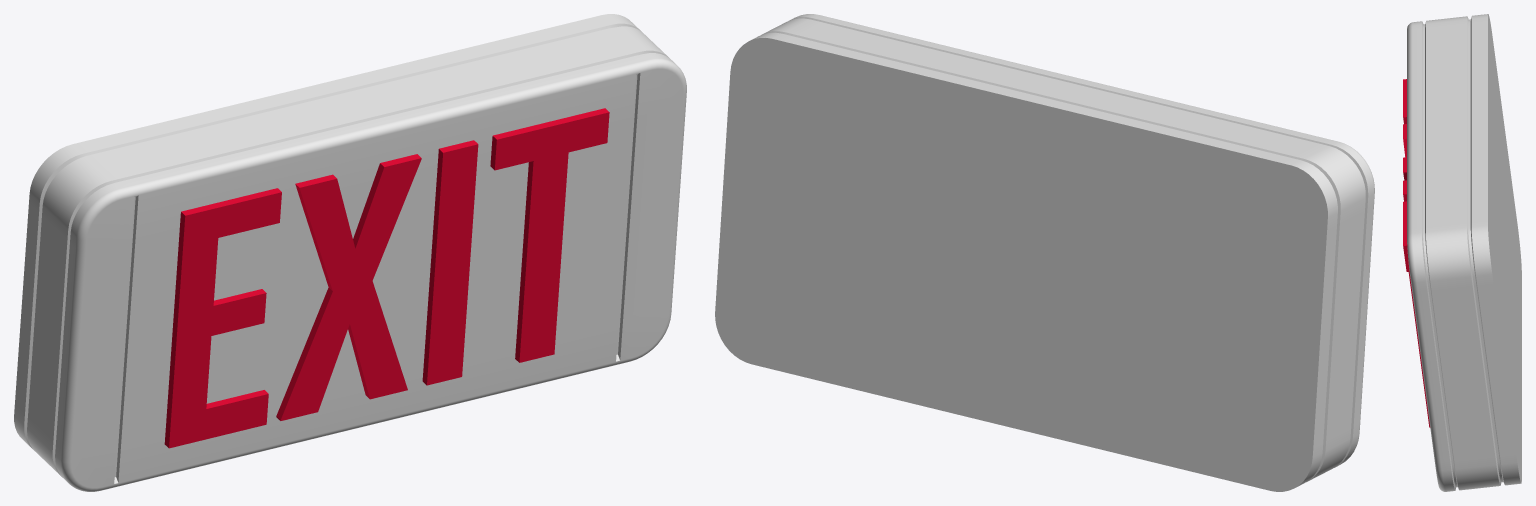
File: my_exit2.glb
The picture shows the model from 3 angles, left to right: view 1: azimuth 30°, elevation 25°; view 2: azimuth 150°, elevation 25°; view 3: azimuth 270°, elevation 25°; orthographic projection. The views are drawn at different scales.
Parts seen in each view (by area): view 1: Exit Sign Box, Text; view 2: Exit Sign Box; view 3: Exit Sign Box, Text.
Part boxes in pixels (bbox=[...]): Exit Sign Box: bbox=[14, 14, 686, 491]; Text: bbox=[164, 108, 609, 448]; Exit Sign Box: bbox=[715, 14, 1374, 491]; Exit Sign Box: bbox=[1407, 14, 1521, 491]; Text: bbox=[1403, 79, 1430, 427].
Bounding box in the file's own units: 7.62 × 3.91 × 1.6.
